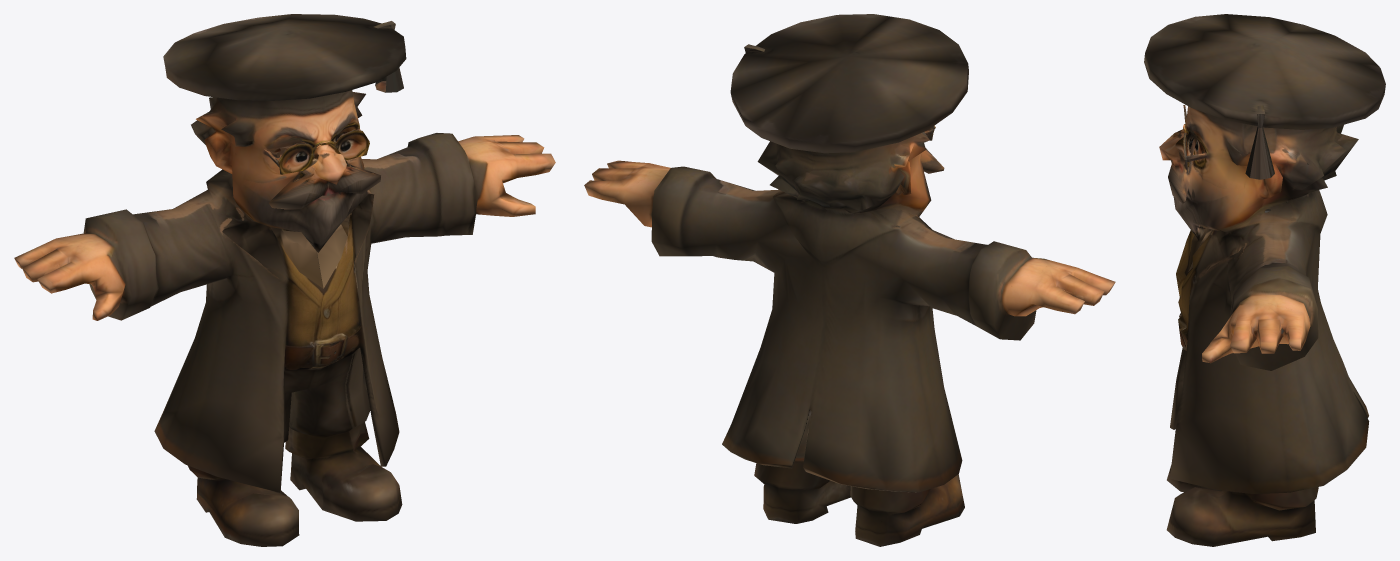
File: CharacterMeshyai.fbx
3 renders of one model, left to right at view 1: azimuth 30°, elevation 25°; view 2: azimuth 150°, elevation 25°; view 3: azimuth 270°, elevation 25°, orthographic.
Parts seen in each view (by area): view 1: Mesh_Low; view 2: Mesh_Low; view 3: Mesh_Low.
Part boxes in pixels (x1=…): Mesh_Low: x1=14, y1=14, x2=555, y2=546; Mesh_Low: x1=584, y1=14, x2=1115, y2=546; Mesh_Low: x1=1144, y1=14, x2=1385, y2=546.
Size of the model in its own units: 271 by 236 by 112.
1 material, 1 textured.
